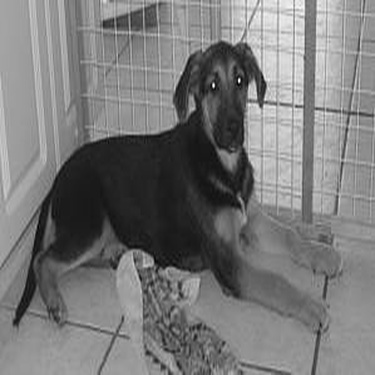dog: (4, 29, 350, 342)
